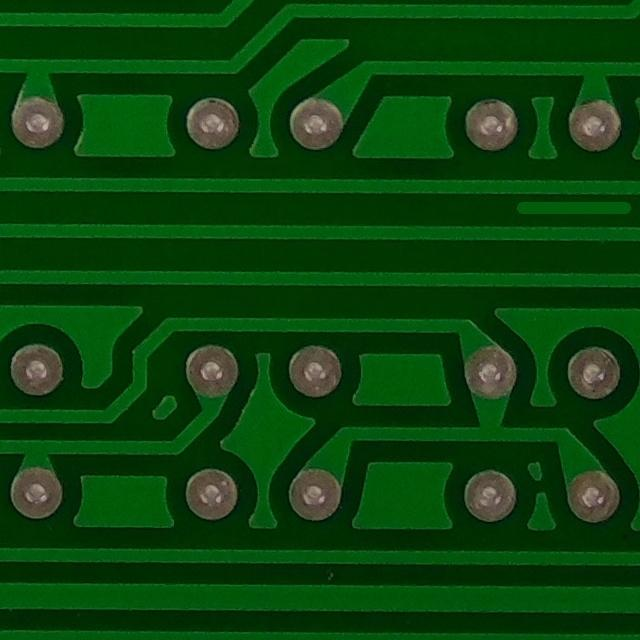spurious_copper: (500, 184, 640, 235)
